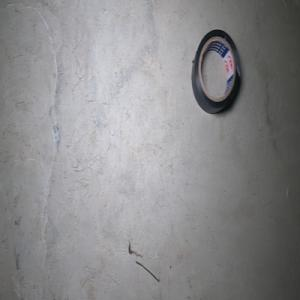Tape: (190, 28, 241, 113)
